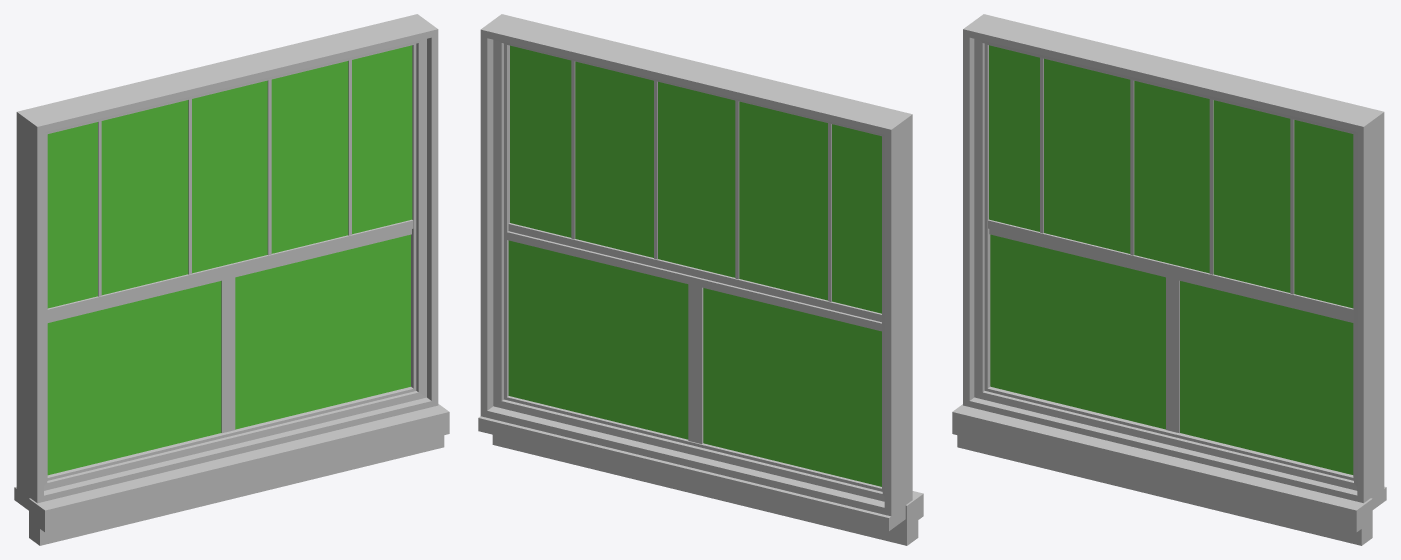
File: Wall_Window_3.fbx
3 views of the same model, side by side, from view 1: azimuth 30°, elevation 25°; view 2: azimuth 150°, elevation 25°; view 3: azimuth 330°, elevation 25° (orthographic). The views are drawn at different scales.
Visible parts, largest first — view 1: Window_2; view 2: Window_2; view 3: Window_2.
Boxes of the visible parts, left/top/right/bottom form: Window_2: left=14, top=14, right=449, bottom=545; Window_2: left=478, top=14, right=923, bottom=545; Window_2: left=952, top=14, right=1386, bottom=545.
Bounding box in the file's own units: 2.02 × 1.98 × 0.2793.
